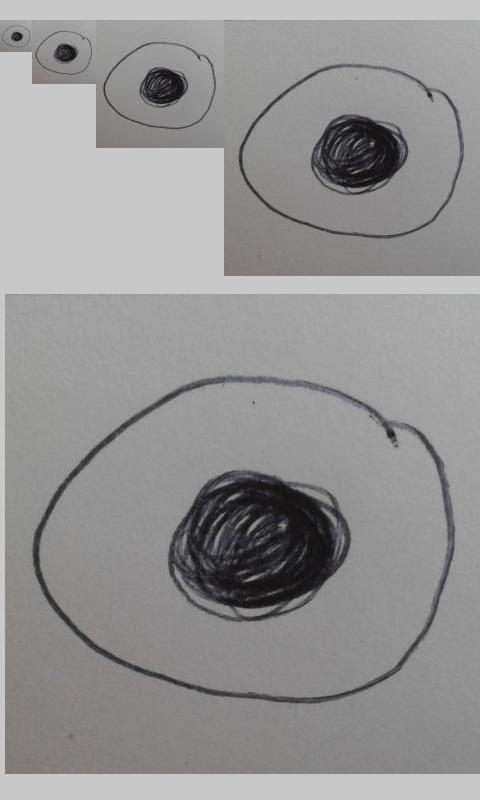radio_button: (30, 372, 455, 705), (238, 63, 464, 240), (102, 41, 217, 130), (35, 30, 93, 76), (1, 24, 31, 49)
